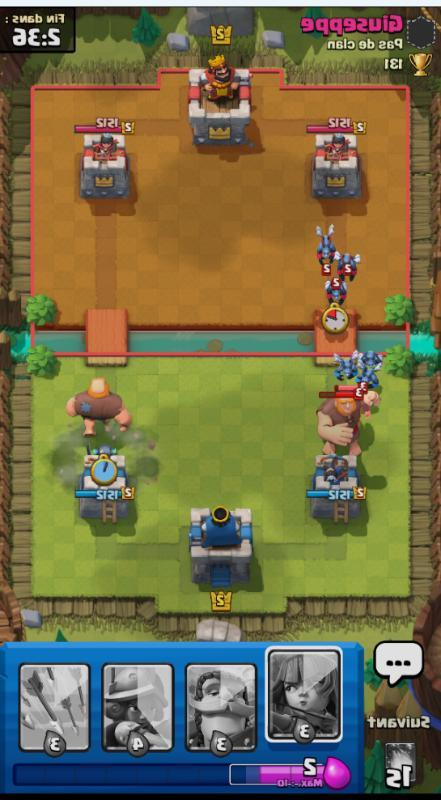enemy_giant: (313, 385, 373, 449)
enemy_minions: (321, 275, 350, 307), (336, 249, 363, 279)
player_giant: (61, 375, 135, 439)
player_minions: (330, 353, 359, 381), (355, 348, 384, 376)
